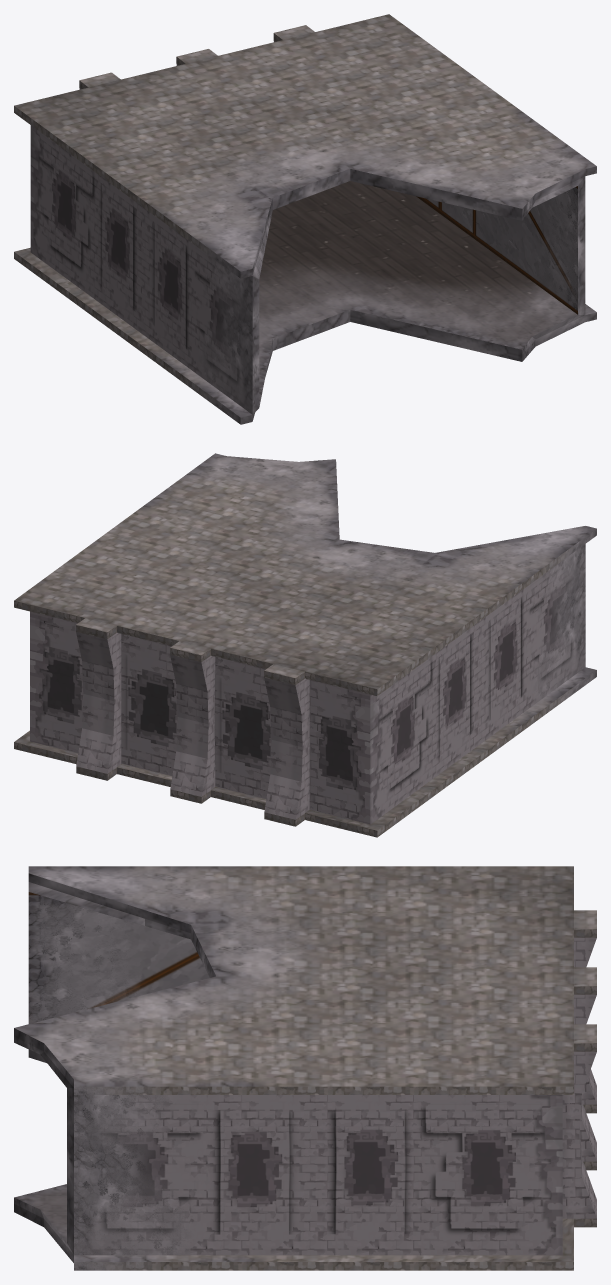
The model's file is City1b_Modular_Broken.fbx.
3 renders of one model, top to bottom at view 1: azimuth 30°, elevation 25°; view 2: azimuth 150°, elevation 25°; view 3: azimuth 270°, elevation 25°, orthographic. The views are drawn at different scales.
Visible parts, largest first — view 1: Cube.024; view 2: Cube.024; view 3: Cube.024.
Part boxes in pixels (x1,y1,x2,y2): Cube.024: (14, 14, 596, 424); Cube.024: (14, 453, 596, 837); Cube.024: (14, 866, 596, 1270).
Size of the model in its own units: 1057 by 412 by 1182.
